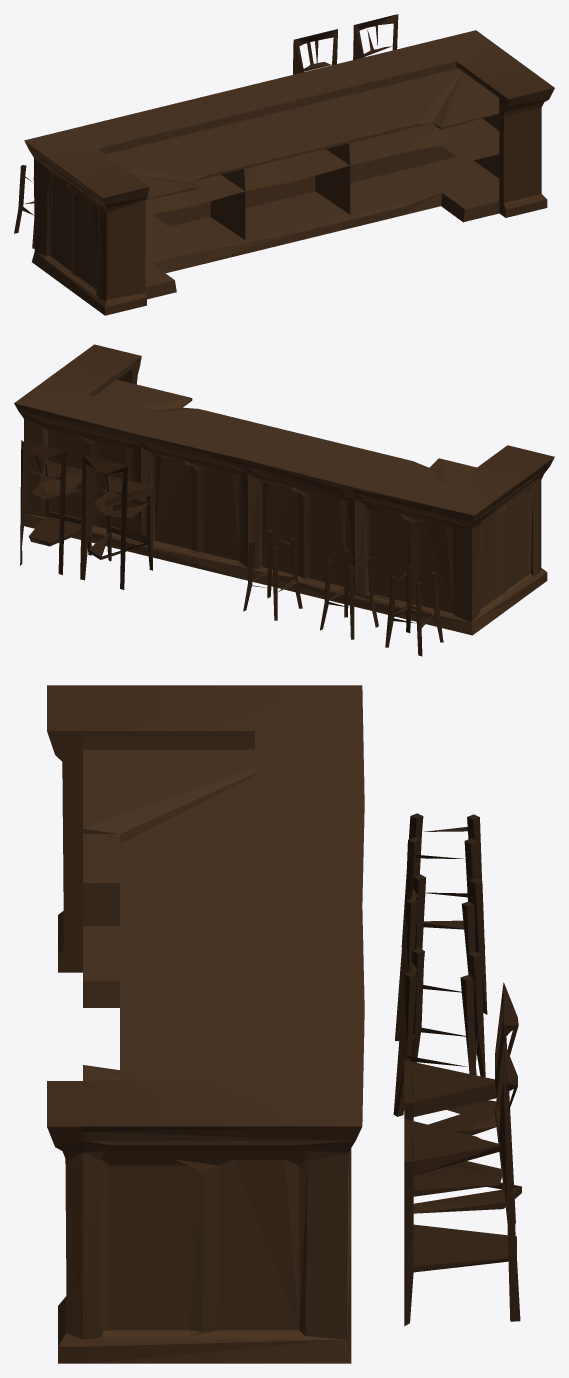
Rendered from pub-counter.lod0.glb.
3 views of the same model, one above another, from view 1: azimuth 30°, elevation 25°; view 2: azimuth 150°, elevation 25°; view 3: azimuth 270°, elevation 25° (orthographic). The views are drawn at different scales.
Parts seen in each view (by area): view 1: Object_4; view 2: Object_4; view 3: Object_4.
Boxes of the visible parts, x1=… form: Object_4: x1=14, y1=14, x2=554, y2=315; Object_4: x1=14, y1=344, x2=554, y2=656; Object_4: x1=47, y1=685, x2=521, y2=1363.
Bounding box in the file's own units: 4.28 × 1.1 × 1.95.
